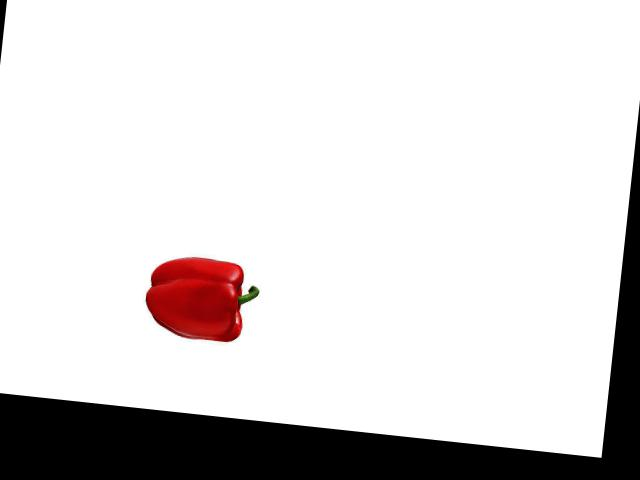bell_pepper: (138, 247, 262, 350)
